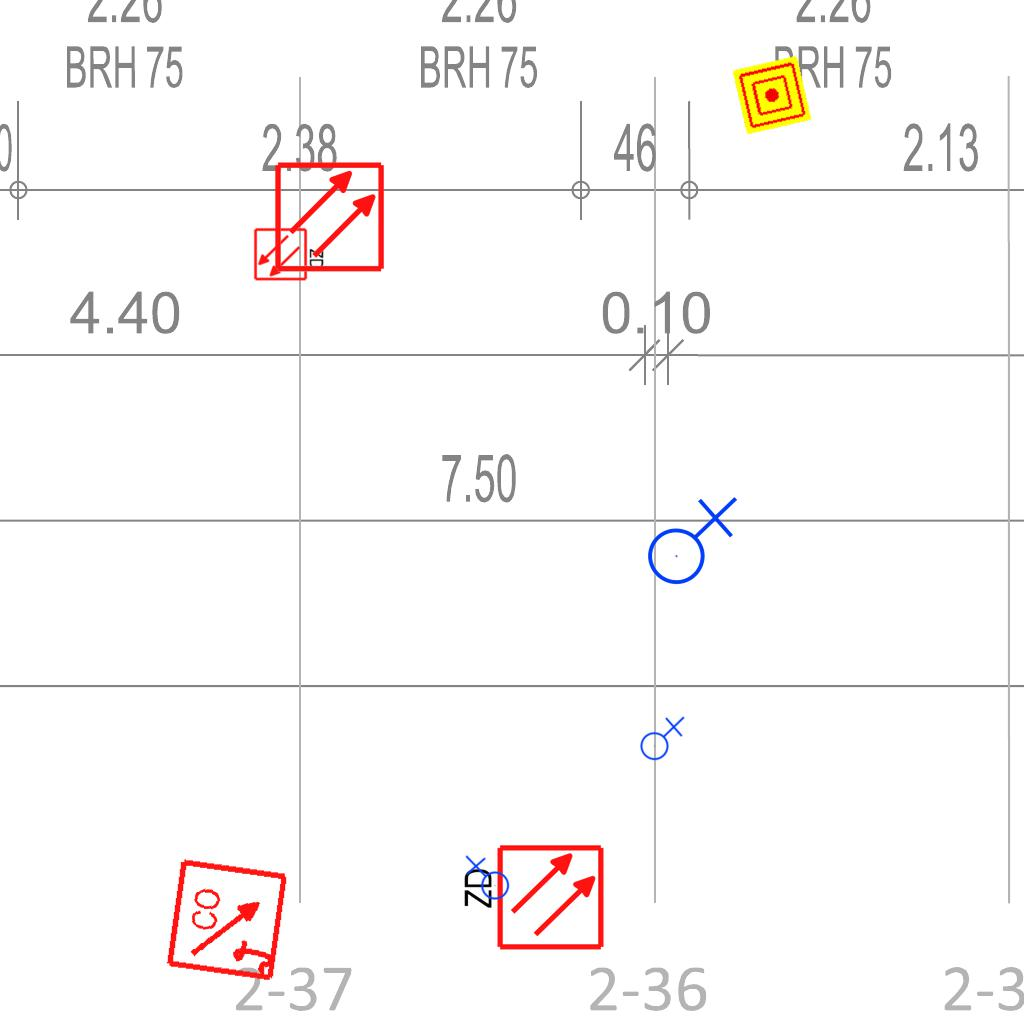Elektroanschluss_allgemein_230V_Geraeteanschlussdose_230V: (639, 492, 738, 586), (636, 714, 685, 761), (463, 855, 510, 904)
NAM-Nichtautomatischer_Melder: (732, 55, 812, 135)
RMO_Rauchmelder_optischer: (273, 160, 386, 273)
ROA_Rauchmelder_optisch_mit_Signalgeber_(Sockelsirene): (164, 855, 293, 984)
ZD_Melder_in_Zwischendecke_mit_Revisionsoeffnung_mind_40_x_40_cm: (457, 842, 606, 956), (253, 225, 327, 282)
